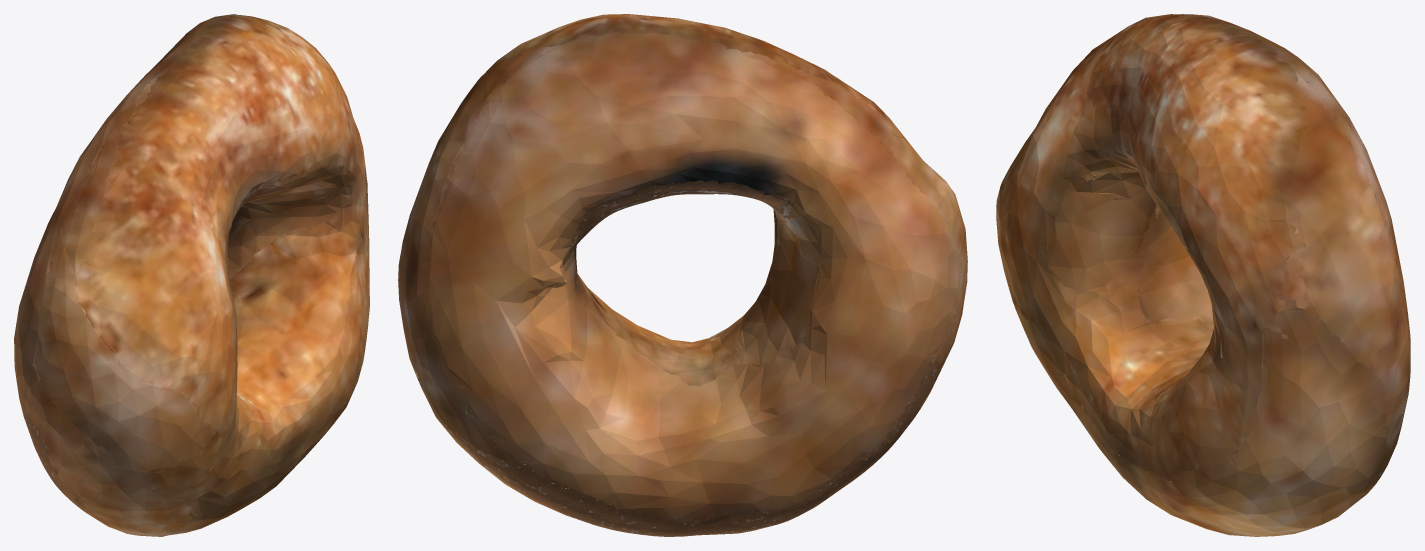
The model's file is cheerio.fbx.
3 renders of one model, left to right at view 1: azimuth 30°, elevation 25°; view 2: azimuth 150°, elevation 25°; view 3: azimuth 270°, elevation 25°, orthographic. The views are drawn at different scales.
Parts seen in each view (by area): view 1: model_Scanned Cheerios_20170623_214548340; view 2: model_Scanned Cheerios_20170623_214548340; view 3: model_Scanned Cheerios_20170623_214548340.
Boxes of the visible parts, x1,y1,x2,y2 form: model_Scanned Cheerios_20170623_214548340: (14, 14, 369, 536); model_Scanned Cheerios_20170623_214548340: (398, 14, 967, 536); model_Scanned Cheerios_20170623_214548340: (996, 14, 1410, 536).
Bounding box in the file's own units: 4782 × 5058 × 3868.
Materials: 1 (1 with a texture image).
